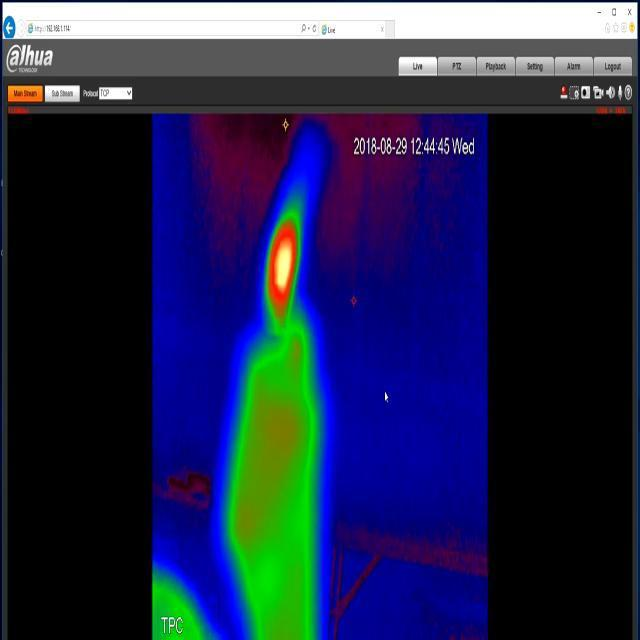fire: (265, 193, 304, 326)
